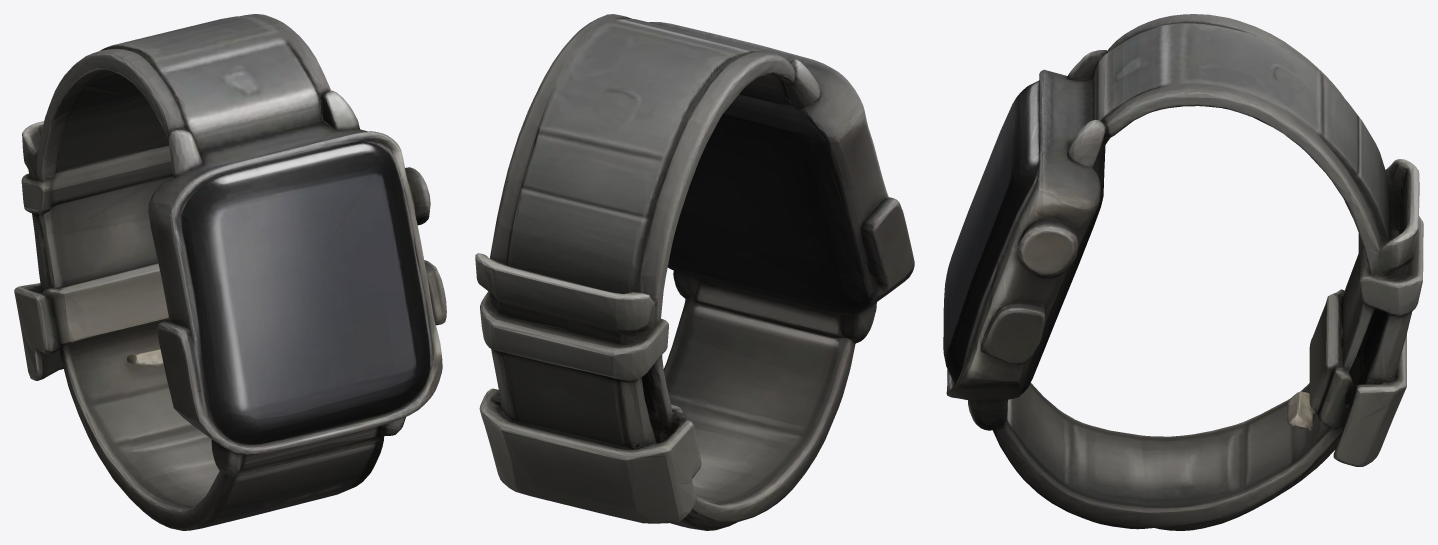
Rendered from smartwatch.glb.
The picture shows the model from 3 angles, left to right: view 1: azimuth 30°, elevation 25°; view 2: azimuth 150°, elevation 25°; view 3: azimuth 270°, elevation 25°; orthographic projection. The views are drawn at different scales.
Parts seen in each view (by area): view 1: world; view 2: world; view 3: world.
Part boxes in pixels (left/top/right/bottom): world: left=14, top=14, right=446, bottom=530; world: left=475, top=14, right=914, bottom=530; world: left=943, top=14, right=1423, bottom=530.
Size of the model in its own units: 0.6047 by 0.9882 by 0.9507.
Materials: 1 (1 with a texture image).
